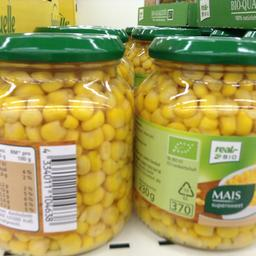corn: (0, 32, 131, 254), (132, 33, 254, 249)
